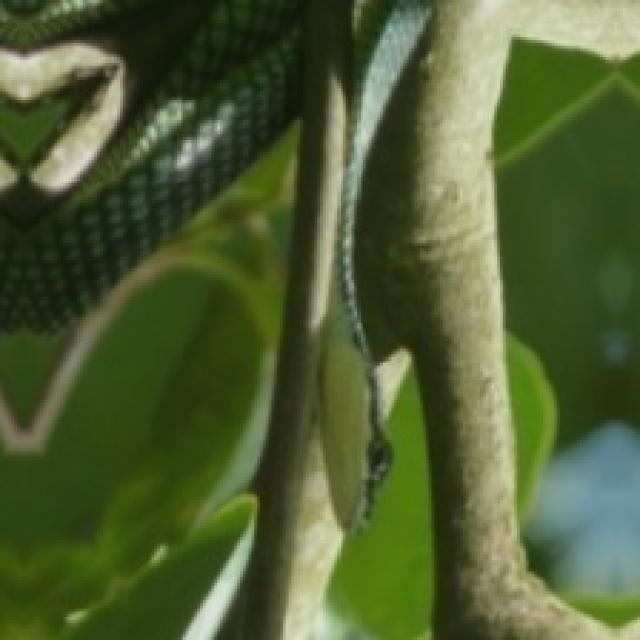paradise tree snake: (0, 0, 301, 331), (320, 0, 429, 531)
